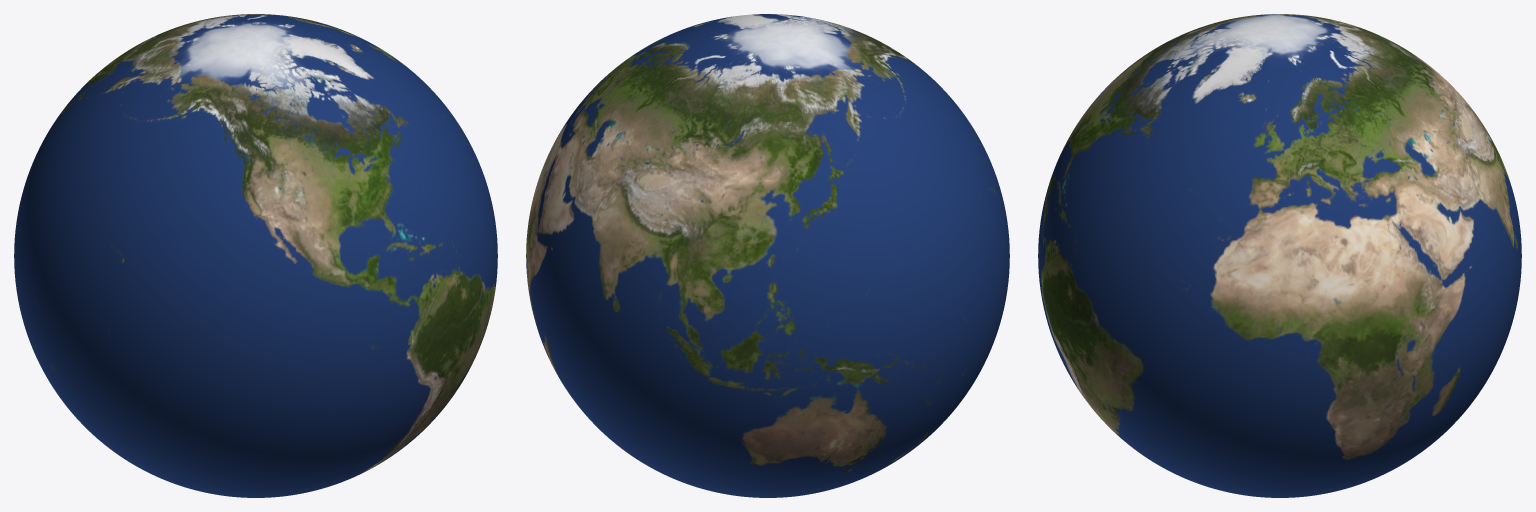
File: earth.glb
3 views of the same model, side by side, from view 1: azimuth 30°, elevation 25°; view 2: azimuth 150°, elevation 25°; view 3: azimuth 270°, elevation 25° (orthographic).
Visible parts, largest first — view 1: Earth; view 2: Earth; view 3: Earth.
Boxes of the visible parts, x1,y1,x2,y2 form: Earth: (14,14,497,497); Earth: (526,14,1009,497); Earth: (1038,14,1521,497).
Bounding box in the file's own units: 2 × 2 × 2.
1 material, 1 textured.
